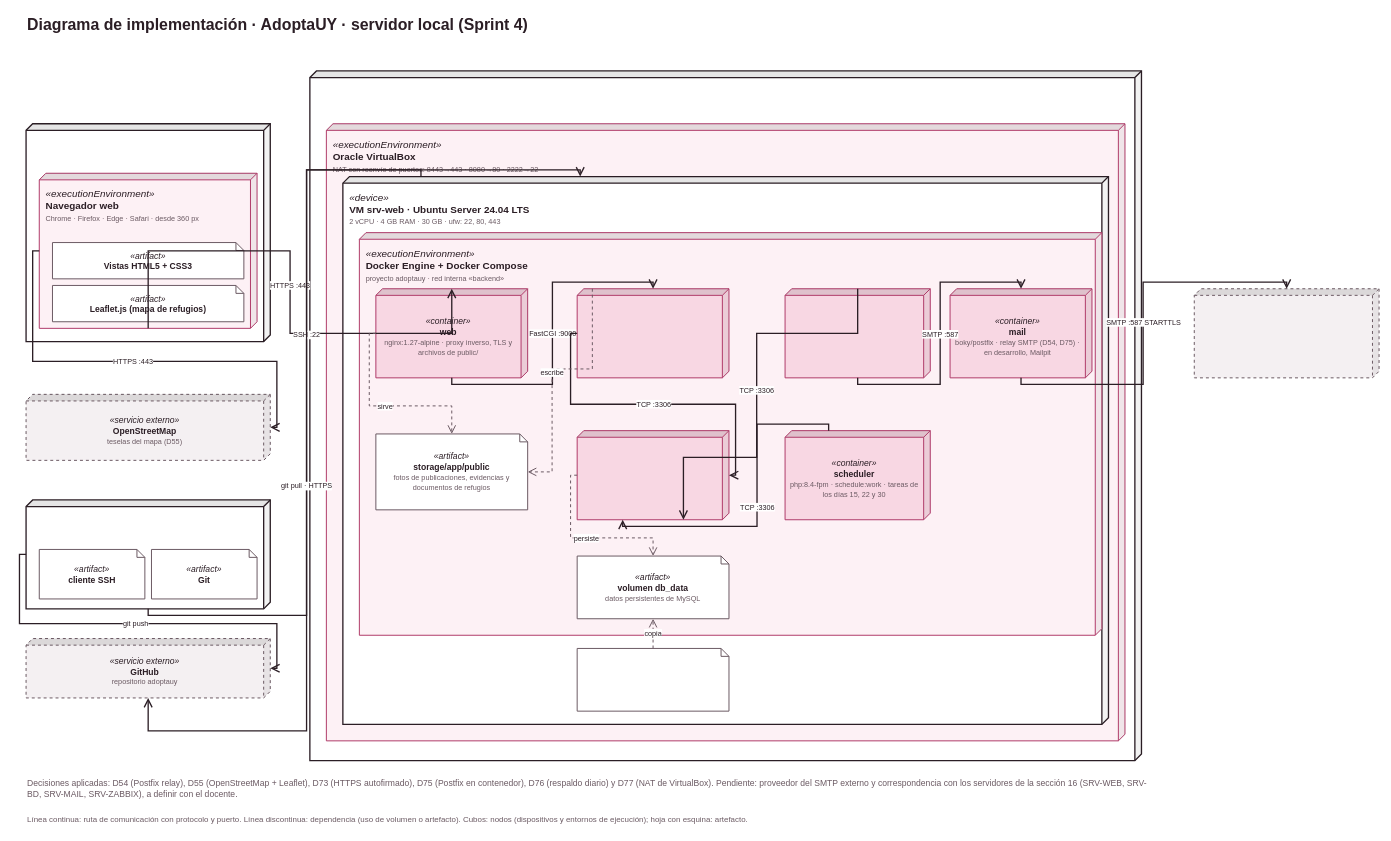
Some shapes in this 1391 by 841 pixel diagram are drawn without their labels. The shapes that lost their labels are listed below. From the top down, each one's box as (x1, y1, x2, y2) in pixels, then its label:
(25, 123, 271, 342): «device» Equipo del usuario computadora o celular
(576, 288, 729, 378): «container» app php:8.4-fpm · «artifact» AdoptaUY (Laravel 13)
(784, 288, 930, 378): «container» queue php:8.4-fpm · queue:work · envío de correos
(1193, 288, 1379, 378): «servicio externo» Proveedor SMTP a definir · puerto 587
(309, 70, 1142, 761): «device» PC del equipo · servidor local sistema operativo anfitrión del equipo
(576, 430, 729, 520): «container» db mysql:8.4 · «artifact» esquema adoptauy (utf8mb4)
(25, 499, 271, 609): «device» Laptop del equipo (×4)
(576, 648, 729, 711): «artifact» respaldo diario cron 02:00 · mysqldump y fotos · 7 días (D76)
